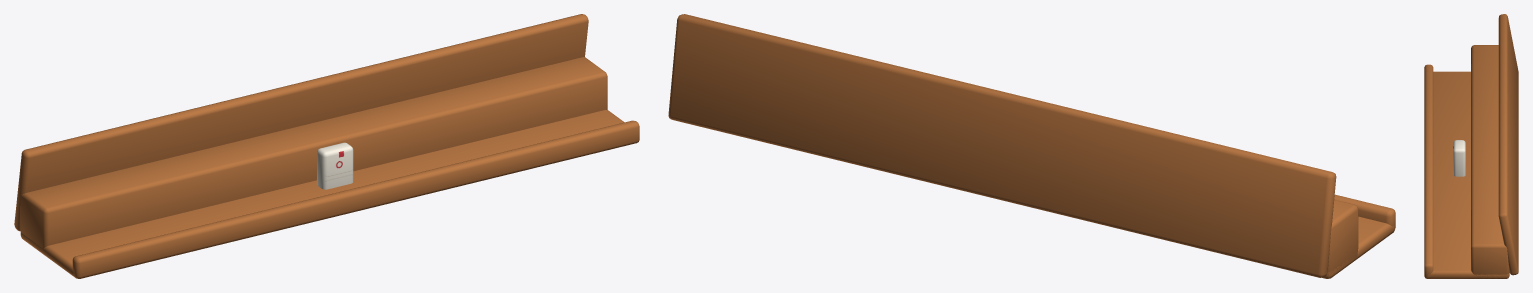
Rendered from okey.glb.
The picture shows the model from 3 angles, left to right: view 1: azimuth 30°, elevation 25°; view 2: azimuth 150°, elevation 25°; view 3: azimuth 270°, elevation 25°; orthographic projection. The views are drawn at different scales.
Visible parts, largest first — view 1: RACK, TILE; view 2: RACK; view 3: RACK, TILE.
Boxes of the visible parts, x1,y1,x2,y2 form: RACK: [14, 14, 639, 278]; TILE: [317, 142, 353, 189]; RACK: [668, 14, 1395, 278]; RACK: [1424, 14, 1518, 278]; TILE: [1453, 140, 1465, 176].
Bounding box in the file's own units: 0.62 × 0.0947 × 0.123.
2 materials, 1 textured.
